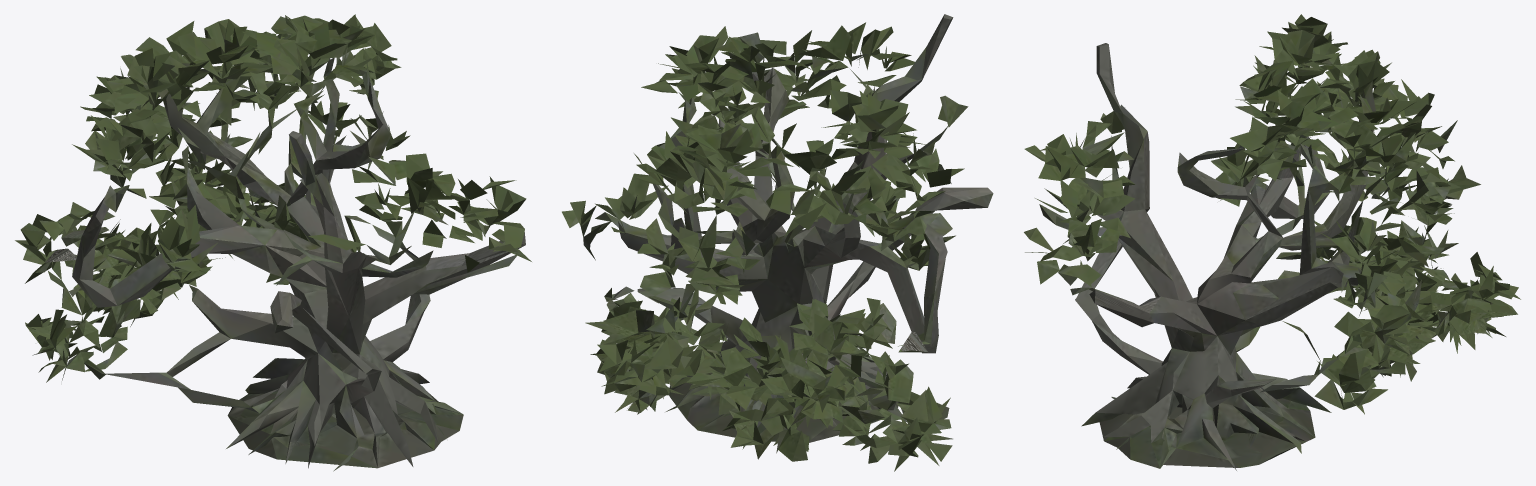
The model's file is scene_mangrove.glb.
3 renders of one model, left to right at view 1: azimuth 30°, elevation 25°; view 2: azimuth 150°, elevation 25°; view 3: azimuth 270°, elevation 25°, orthographic. The views are drawn at different scales.
Size of the model in its own units: 1.45 by 1.36 by 1.74.
Materials: 1 (1 with a texture image).
